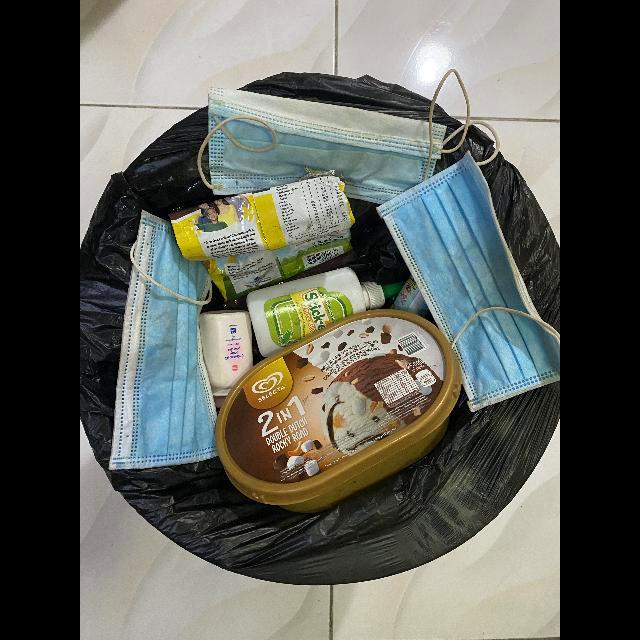food_wrapper: (168, 171, 355, 302)
plastic_container: (214, 309, 463, 515), (246, 267, 404, 358), (199, 310, 253, 409)
